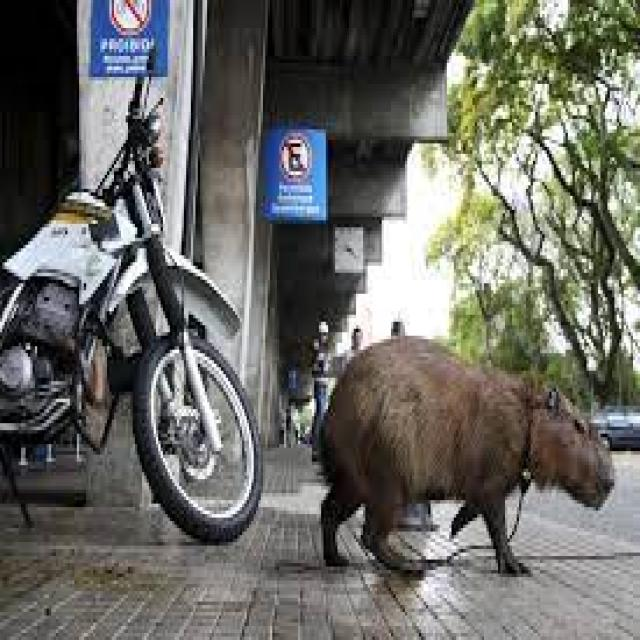capy: (316, 334, 617, 589)
